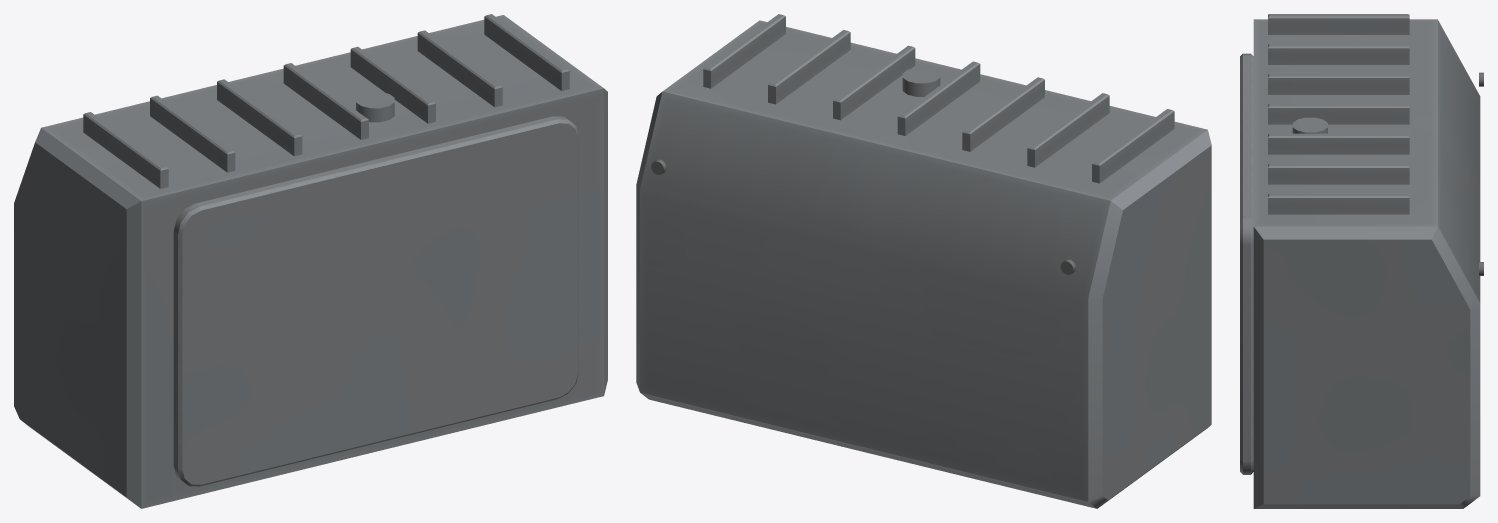
The model's file is lit.obj.
The picture shows the model from 3 angles, left to right: view 1: azimuth 30°, elevation 25°; view 2: azimuth 150°, elevation 25°; view 3: azimuth 270°, elevation 25°; orthographic projection. The views are drawn at different scales.
Visible parts, largest first — view 1: backplate, body, fin_1, fin_3, fin_6, fin_2, fin_5, fin_0, fin_4, knockout; view 2: body, fin_3, fin_1, fin_5, fin_2, fin_6, fin_0, fin_4, knockout; view 3: body, backplate, fin_6, fin_4, fin_5, fin_0, fin_1, fin_2, fin_3, knockout.
Boxes of the visible parts, x1,y1,x2,y2 form: backplate: (173, 116, 578, 486); body: (14, 15, 607, 508); fin_1: (150, 95, 235, 172); fin_3: (283, 63, 368, 139); fin_6: (484, 14, 569, 90); fin_2: (217, 79, 302, 156); fin_5: (417, 30, 502, 107); fin_0: (83, 112, 168, 188); fin_4: (350, 46, 435, 123); knockout: (356, 91, 394, 122); body: (636, 20, 1211, 508); fin_3: (897, 61, 980, 135); fin_1: (1027, 93, 1109, 167); fin_5: (768, 30, 850, 104); fin_2: (962, 77, 1044, 151); fin_6: (703, 14, 785, 88); fin_0: (1092, 109, 1174, 183); fin_4: (833, 45, 915, 120); knockout: (902, 67, 940, 96); body: (1253, 19, 1480, 508); backplate: (1240, 53, 1253, 474); fin_6: (1268, 193, 1409, 214); fin_4: (1268, 133, 1409, 154); fin_5: (1268, 163, 1409, 184); fin_0: (1268, 14, 1409, 34); fin_1: (1268, 44, 1409, 64); fin_2: (1268, 74, 1409, 94); fin_3: (1268, 103, 1409, 124); knockout: (1292, 117, 1327, 133).
Bounding box in the file's own units: 0.36 × 0.243 × 0.1721.
